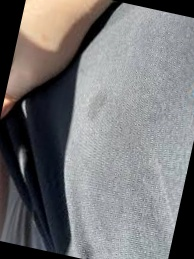oil: (88, 93, 111, 126)
